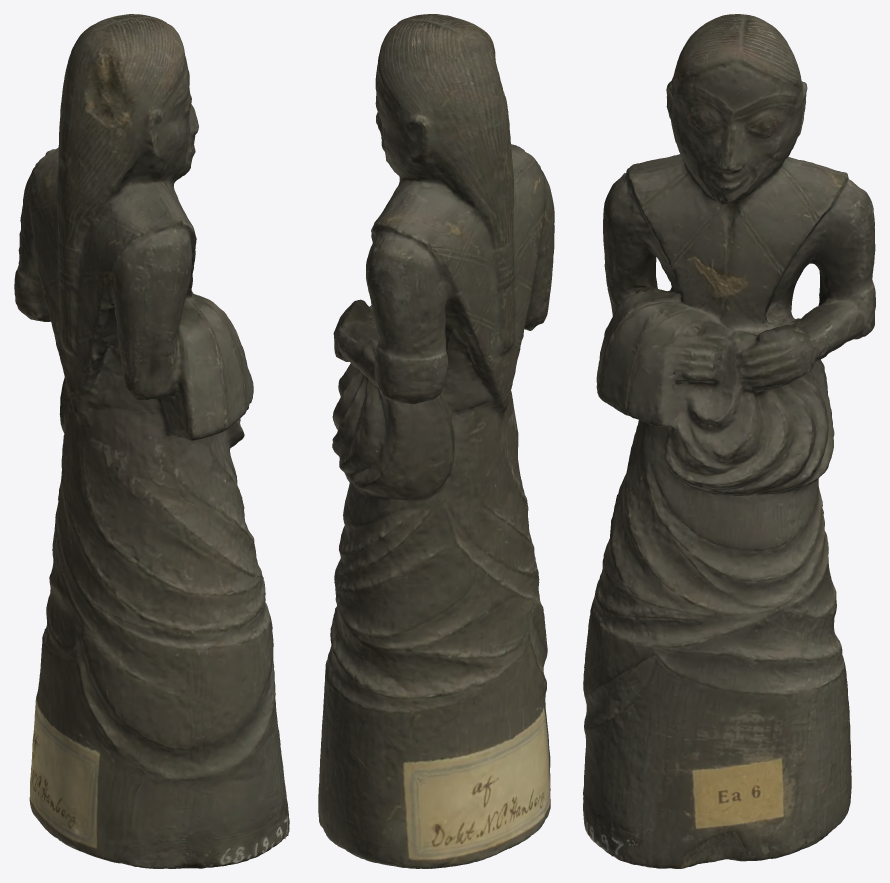
Rendered from preview.glb.
The picture shows the model from 3 angles, left to right: view 1: azimuth 30°, elevation 25°; view 2: azimuth 150°, elevation 25°; view 3: azimuth 270°, elevation 25°; orthographic projection. The views are drawn at different scales.
Parts seen in each view (by area): view 1: Model_material0_0; view 2: Model_material0_0; view 3: Model_material0_0.
Part boxes in pixels (x1=…): Model_material0_0: x1=14, y1=14, x2=289, y2=868; Model_material0_0: x1=318, y1=14, x2=554, y2=868; Model_material0_0: x1=583, y1=14, x2=875, y2=868.
Bounding box in the file's own units: 122 × 469 × 157.
1 material, 1 textured.
